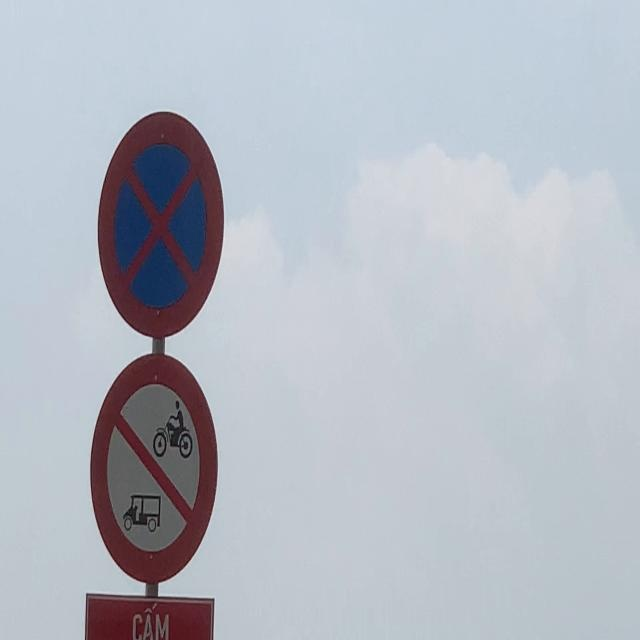bien_cam: (98, 112, 225, 338)
